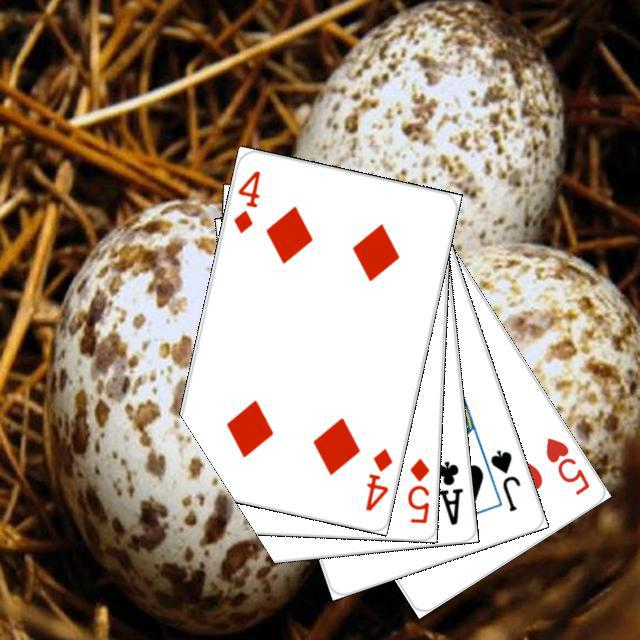4d: (228, 165, 262, 236), (360, 443, 394, 513)
5d: (402, 453, 431, 525)
5h: (540, 432, 592, 497)
Ac: (431, 456, 465, 527)
Js: (485, 445, 522, 514)
